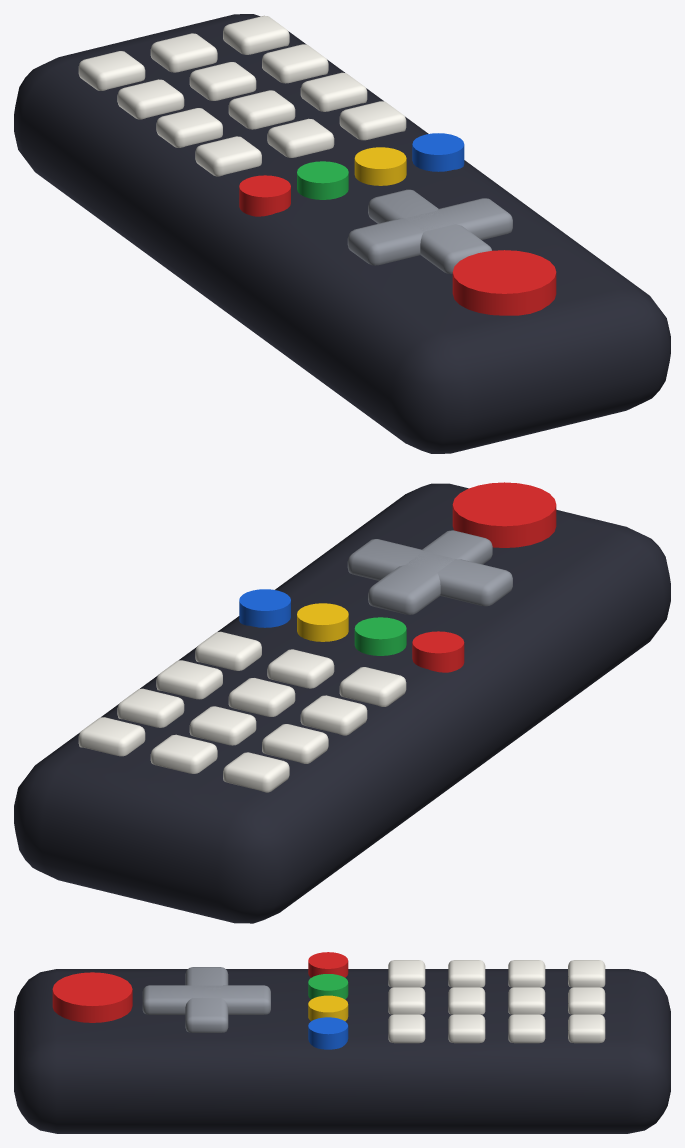
Rendered from remote.glb.
3 renders of one model, top to bottom at view 1: azimuth 30°, elevation 25°; view 2: azimuth 150°, elevation 25°; view 3: azimuth 270°, elevation 25°, orthographic. The views are drawn at different scales.
Parts seen in each view (by area): view 1: remote; view 2: remote; view 3: remote.
Boxes of the visible parts, bbox=[...] form: remote: bbox=[14, 14, 670, 453]; remote: bbox=[14, 482, 670, 923]; remote: bbox=[14, 952, 670, 1133].
Size of the model in its own units: 1.7 by 0.83 by 4.6.
